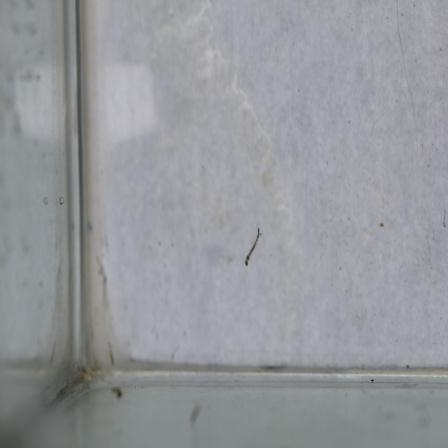Jentik-Nyamuk: (242, 223, 266, 269)
